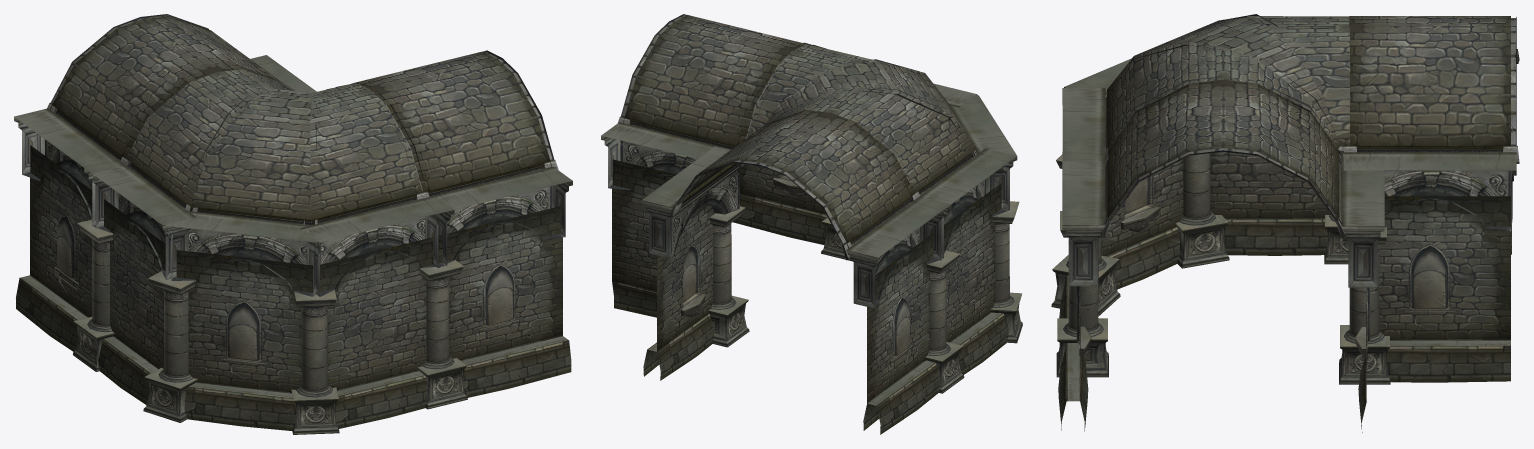
The model's file is DN_1_4_ldao05.FBX.
3 views of the same model, side by side, from view 1: azimuth 30°, elevation 25°; view 2: azimuth 150°, elevation 25°; view 3: azimuth 270°, elevation 25° (orthographic). The views are drawn at different scales.
Visible parts, largest first — view 1: DN_1_4_ldao05, Object010, Object012, Object011, Object013, Object014, Object015; view 2: DN_1_4_ldao05, Object012, Object015, Object010, Object011, Object014; view 3: DN_1_4_ldao05, Object015, Object010, Object012, Object011, Object014.
Boxes of the visible parts, x1=… form: DN_1_4_ldao05: x1=16, y1=14, x2=571, y2=434; Object010: x1=299, y1=166, x2=572, y2=390; Object012: x1=14, y1=108, x2=195, y2=368; Object011: x1=165, y1=210, x2=320, y2=393; Object013: x1=294, y1=290, x2=336, y2=397; Object014: x1=148, y1=271, x2=195, y2=382; Object015: x1=250, y1=55, x2=316, y2=92; DN_1_4_ldao05: x1=601, y1=14, x2=1022, y2=434; Object012: x1=846, y1=148, x2=1017, y2=403; Object015: x1=641, y1=146, x2=739, y2=351; Object010: x1=740, y1=83, x2=977, y2=214; Object011: x1=950, y1=95, x2=1016, y2=208; Object014: x1=991, y1=201, x2=1019, y2=307; DN_1_4_ldao05: x1=1051, y1=14, x2=1519, y2=432; Object015: x1=1343, y1=152, x2=1516, y2=340; Object010: x1=1060, y1=88, x2=1105, y2=394; Object012: x1=1210, y1=152, x2=1335, y2=221; Object011: x1=1064, y1=58, x2=1183, y2=256; Object014: x1=1179, y1=153, x2=1215, y2=225.
Size of the model in its own units: 1311 by 884 by 1310.
